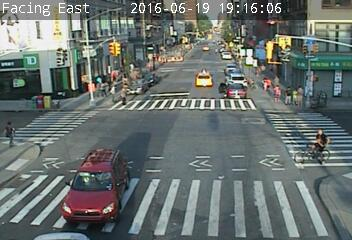neg: (297, 123, 328, 166), (274, 11, 297, 41), (203, 59, 222, 84), (174, 65, 192, 89), (227, 51, 244, 73), (312, 27, 329, 49), (141, 62, 157, 83)
pos: (2, 120, 22, 146), (295, 83, 313, 107), (115, 84, 132, 107), (268, 83, 284, 105), (104, 81, 120, 102)
